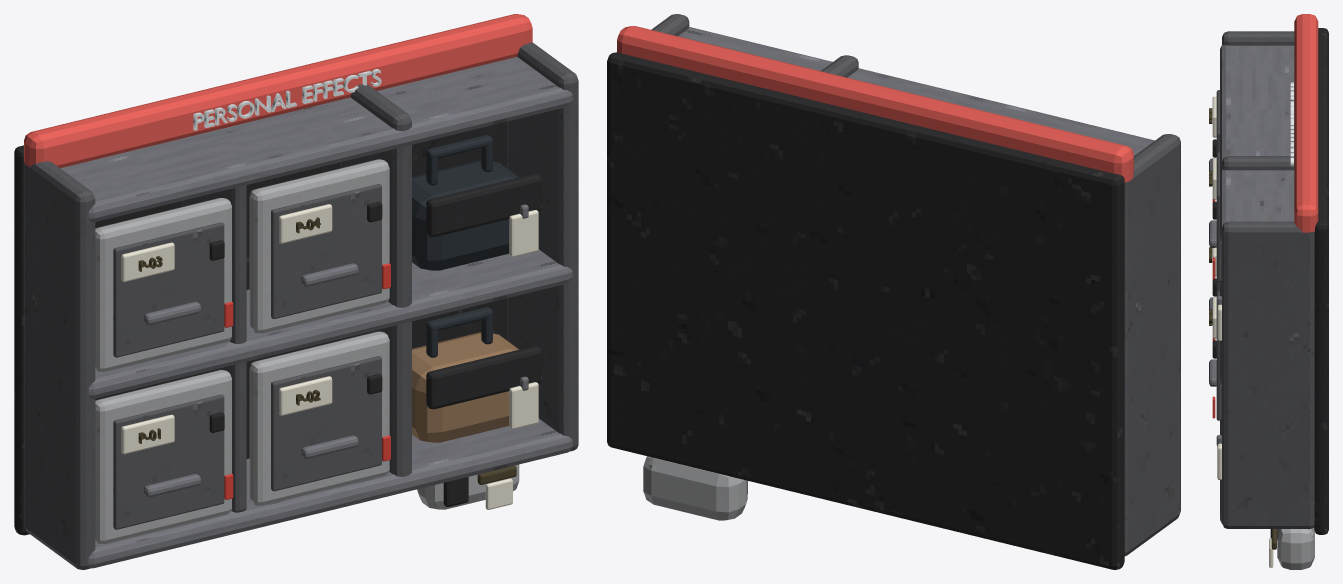
The model's file is decor_sec_personal_effects.glb.
3 views of the same model, side by side, from view 1: azimuth 30°, elevation 25°; view 2: azimuth 150°, elevation 25°; view 3: azimuth 270°, elevation 25° (orthographic). The views are drawn at different scales.
Parts seen in each view (by area): view 1: DEC_SecPersonalEffects__Shelf_2, DEC_SecPersonalEffects__Vertical_Frame_0, DEC_SecPersonalEffects__Header, DEC_SecPersonalEffects__Vertical_Frame_2, DEC_SecPersonalEffects__Shelf_1, DEC_SecPersonalEffects__Shelf_0, DEC_SecPersonalEffects__Back, DEC_SecPersonalEffects__Drawer_Inset_1, DEC_SecPersonalEffects__Drawer_Inset_3, DEC_SecPersonalEffects__Drawer_Inset_4, DEC_SecPersonalEffects__Drawer_Inset_2, DEC_SecPersonalEffects__Vertical_Frame_1 (+24 smaller); view 2: DEC_SecPersonalEffects__Back, DEC_SecPersonalEffects__Vertical_Frame_0, DEC_SecPersonalEffects__Header, DEC_SecPersonalEffects__Shelf_2, DEC_SecPersonalEffects__Access_Box; view 3: DEC_SecPersonalEffects__Vertical_Frame_2, DEC_SecPersonalEffects__Shelf_2, DEC_SecPersonalEffects__Back, DEC_SecPersonalEffects__Header, DEC_SecPersonalEffects__Access_Box, DEC_SecPersonalEffects__Vertical_Frame_0, DEC_SecPersonalEffects__Vertical_Frame_1, DEC_SecPersonalEffects__Drawer_Inset_4, DEC_SecPersonalEffects__Drawer_Inset_2, DEC_SecPersonalEffects__Header_Text, DEC_SecPersonalEffects__Drawer_Inset_3, DEC_SecPersonalEffects__Drawer_Handle_2_Grip (+6 smaller).
Part boxes in pixels (box(x1,y1,x2,y2)): DEC_SecPersonalEffects__Shelf_2: box(60, 57, 572, 222); DEC_SecPersonalEffects__Vertical_Frame_0: box(24, 161, 95, 569); DEC_SecPersonalEffects__Header: box(24, 14, 532, 168); DEC_SecPersonalEffects__Vertical_Frame_2: box(507, 42, 578, 451); DEC_SecPersonalEffects__Shelf_1: box(88, 249, 572, 399); DEC_SecPersonalEffects__Shelf_0: box(88, 418, 572, 568); DEC_SecPersonalEffects__Back: box(14, 121, 507, 535); DEC_SecPersonalEffects__Drawer_Inset_1: box(113, 394, 224, 529); DEC_SecPersonalEffects__Drawer_Inset_3: box(113, 222, 224, 357); DEC_SecPersonalEffects__Drawer_Inset_4: box(271, 184, 381, 318); DEC_SecPersonalEffects__Drawer_Inset_2: box(271, 356, 381, 491); DEC_SecPersonalEffects__Vertical_Frame_1: box(341, 84, 411, 476); DEC_SecPersonalEffects__Back: box(607, 52, 1124, 569); DEC_SecPersonalEffects__Vertical_Frame_0: box(1124, 134, 1180, 556); DEC_SecPersonalEffects__Header: box(617, 26, 1133, 182); DEC_SecPersonalEffects__Shelf_2: box(678, 27, 1154, 155); DEC_SecPersonalEffects__Access_Box: box(643, 456, 747, 520); DEC_SecPersonalEffects__Vertical_Frame_2: box(1222, 221, 1314, 528); DEC_SecPersonalEffects__Shelf_2: box(1220, 45, 1294, 244); DEC_SecPersonalEffects__Back: box(1314, 28, 1328, 534); DEC_SecPersonalEffects__Header: box(1294, 14, 1318, 232); DEC_SecPersonalEffects__Access_Box: box(1277, 528, 1314, 569); DEC_SecPersonalEffects__Vertical_Frame_0: box(1222, 31, 1294, 45); DEC_SecPersonalEffects__Vertical_Frame_1: box(1222, 156, 1294, 170); DEC_SecPersonalEffects__Drawer_Inset_4: box(1216, 152, 1221, 281); DEC_SecPersonalEffects__Drawer_Inset_2: box(1216, 291, 1221, 420); DEC_SecPersonalEffects__Header_Text: box(1290, 82, 1293, 166); DEC_SecPersonalEffects__Drawer_Inset_3: box(1216, 90, 1219, 153); DEC_SecPersonalEffects__Drawer_Handle_2_Grip: box(1209, 359, 1216, 386).
Bounding box in the file's own units: 1.75 × 1.54 × 0.446.
11 materials, 4 textured.
